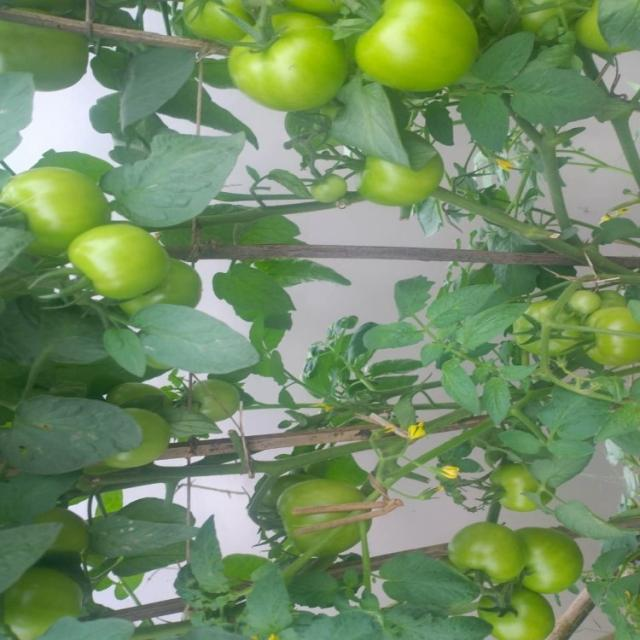tomato: (355, 1, 475, 100), (228, 15, 342, 114), (4, 159, 111, 263), (69, 222, 173, 309), (283, 471, 369, 558), (1, 565, 88, 640), (450, 519, 526, 592), (363, 144, 443, 213), (513, 520, 584, 597), (102, 403, 180, 468), (583, 301, 640, 379), (516, 1, 619, 44), (472, 587, 555, 640), (510, 297, 575, 357), (179, 1, 252, 45), (498, 454, 549, 514), (162, 251, 205, 314), (187, 377, 243, 425), (302, 167, 355, 210), (50, 507, 88, 560), (559, 283, 607, 323)
